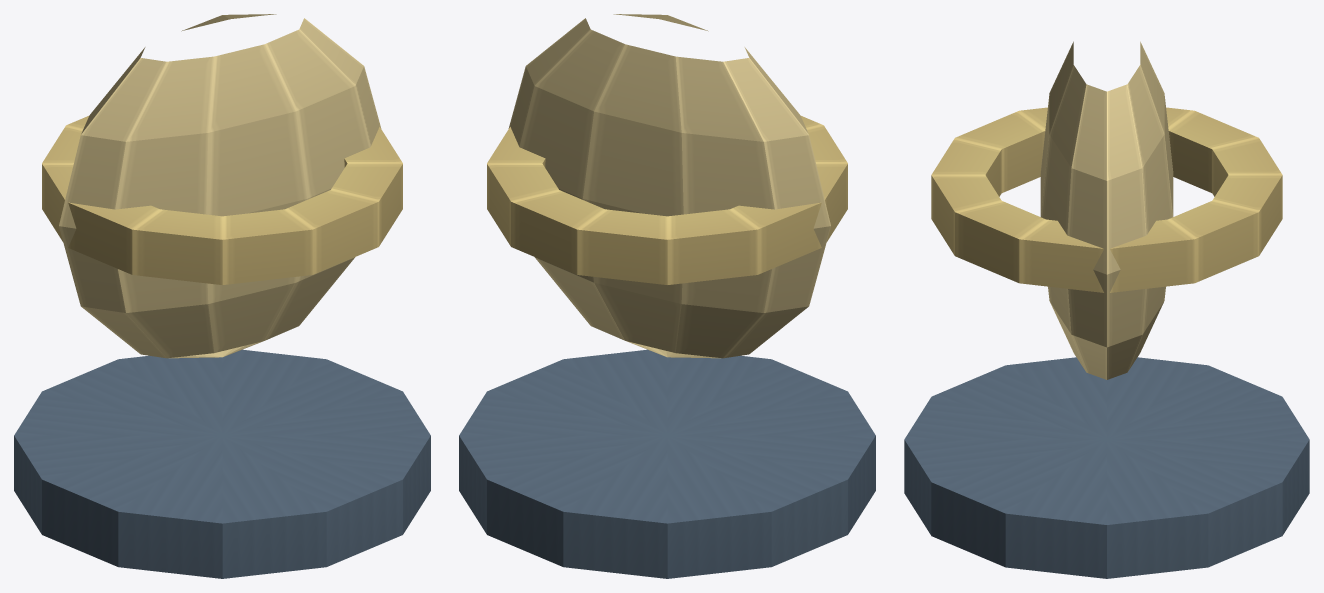
File: coin_star.glb
3 renders of one model, left to right at view 1: azimuth 30°, elevation 25°; view 2: azimuth 150°, elevation 25°; view 3: azimuth 270°, elevation 25°, orthographic. The views are drawn at different scales.
Visible parts, largest first — view 1: coin_star; view 2: coin_star; view 3: coin_star.
Boxes of the visible parts, bbox=[...] form: coin_star: bbox=[14, 14, 430, 578]; coin_star: bbox=[459, 14, 875, 578]; coin_star: bbox=[904, 41, 1309, 578].
Bounding box in the file's own units: 1.5 × 1.89 × 1.5.
1 material, 1 textured.
